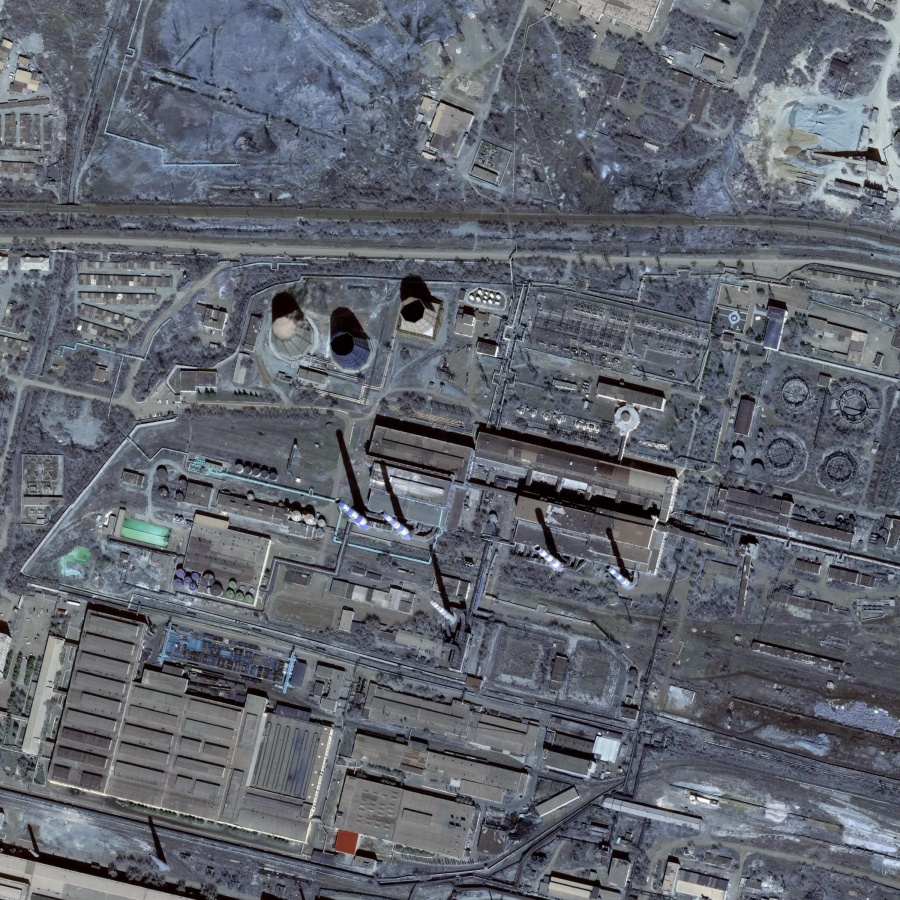PowerPlant: (258, 258, 672, 632)
